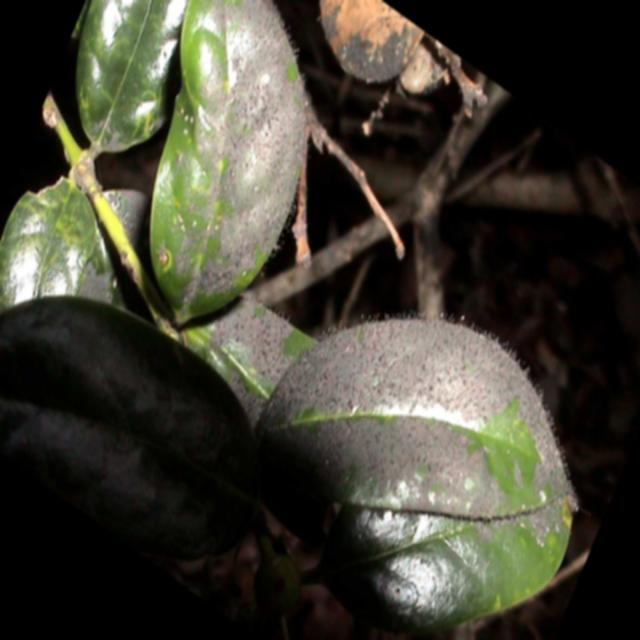Sooty Mold: (0, 0, 581, 639), (254, 313, 579, 633)
